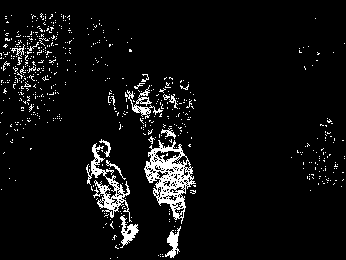person: (83, 135, 139, 248), (149, 129, 195, 260), (132, 69, 154, 131), (181, 73, 202, 126), (160, 72, 176, 126)
